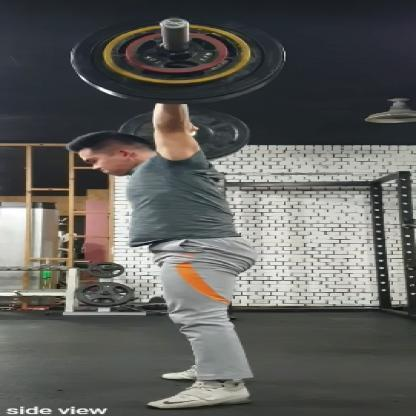barbell: (70, 7, 287, 162)
